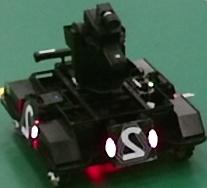armor_2: (105, 128, 159, 158)
front_2: (115, 122, 151, 164)
right_2: (19, 100, 35, 141)
